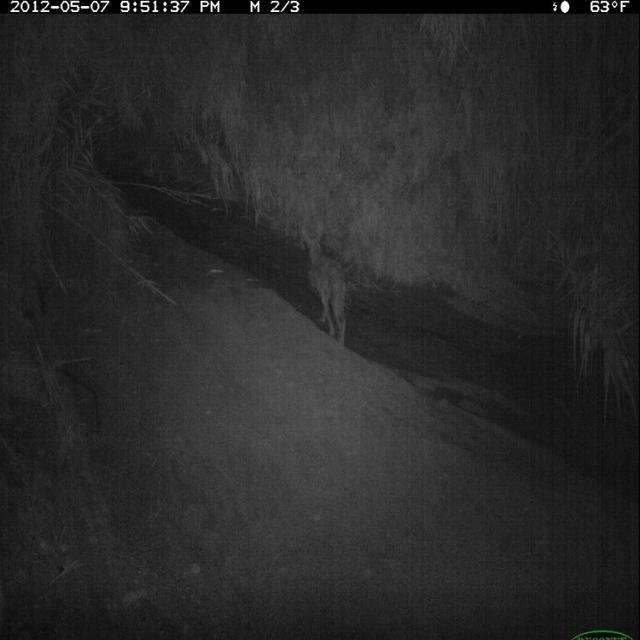coyote: (298, 222, 352, 350)
